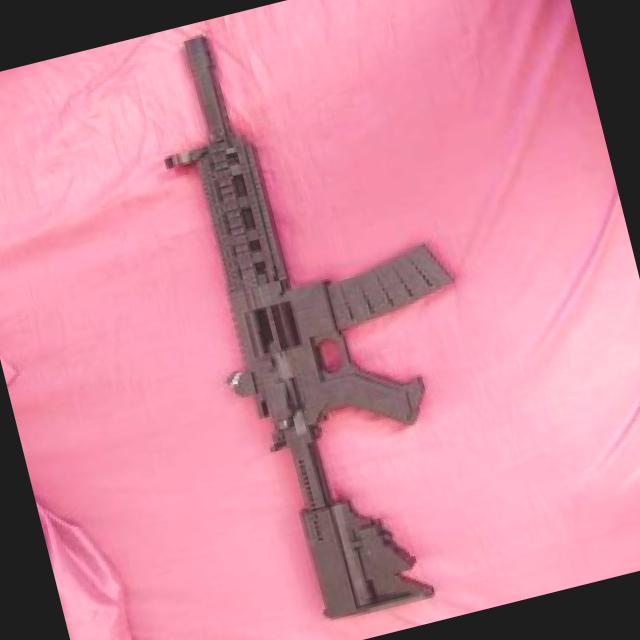long weapon: (117, 0, 535, 639)
